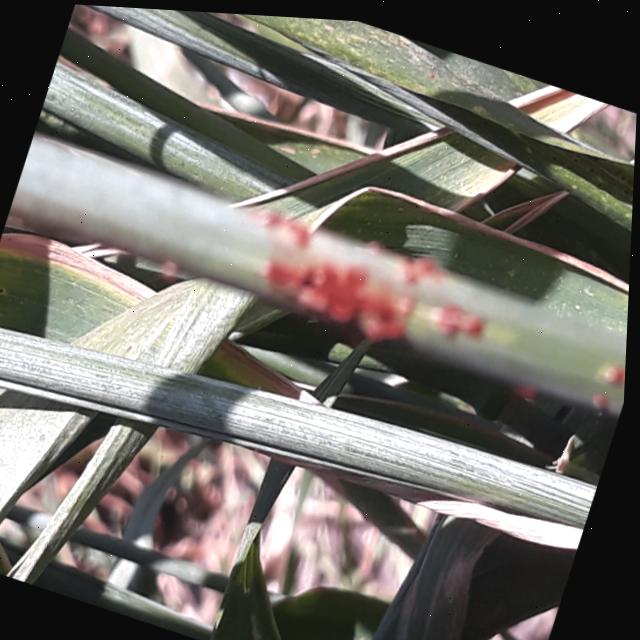black_stem_rust: (0, 74, 637, 458)
